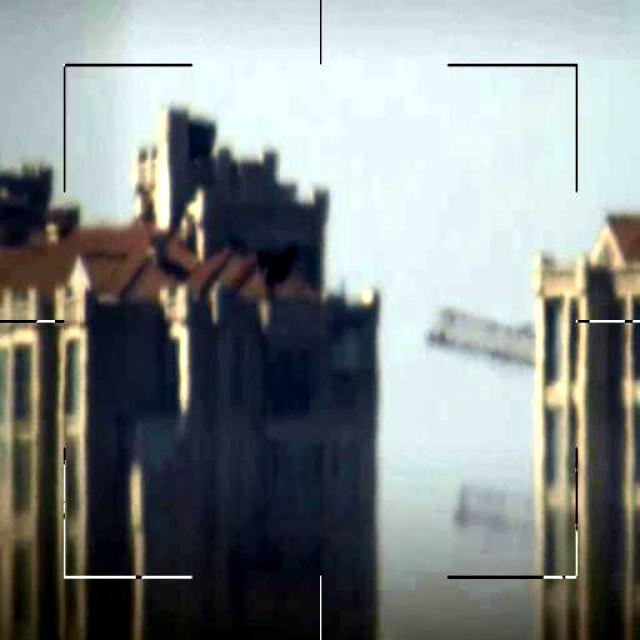bird: (259, 231, 306, 298)
